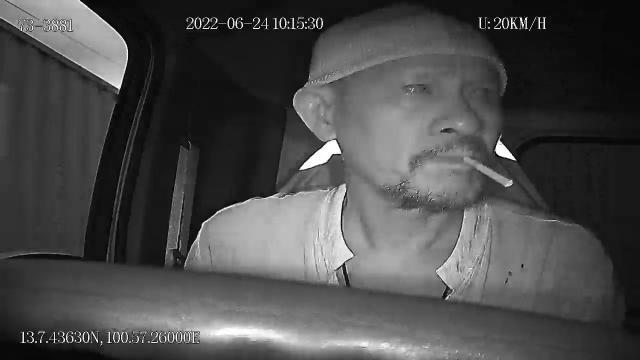SafeDriving: (393, 68, 440, 102)
Smoking: (459, 156, 516, 190)
